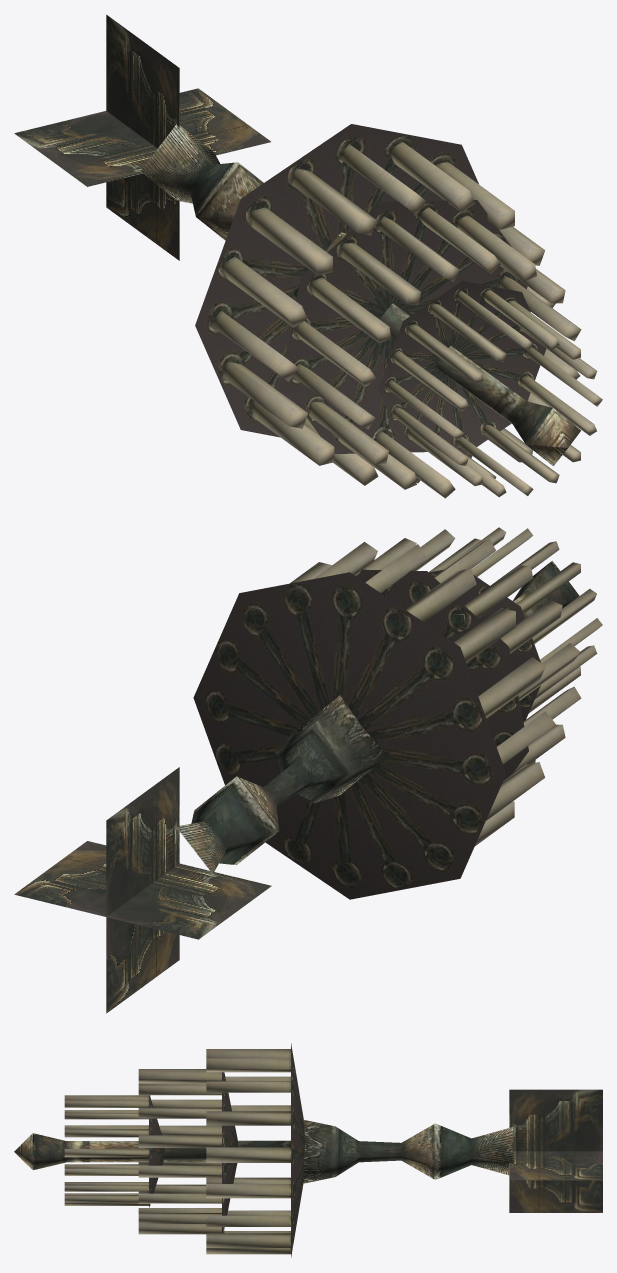
Rendered from light_candelabre_off.glb.
3 views of the same model, one above another, from view 1: azimuth 30°, elevation 25°; view 2: azimuth 150°, elevation 25°; view 3: azimuth 270°, elevation 25° (orthographic). The views are drawn at different scales.
Bounding box in the file's own units: 31.44 × 31.44 × 80.31.
3 materials, 3 textured.
